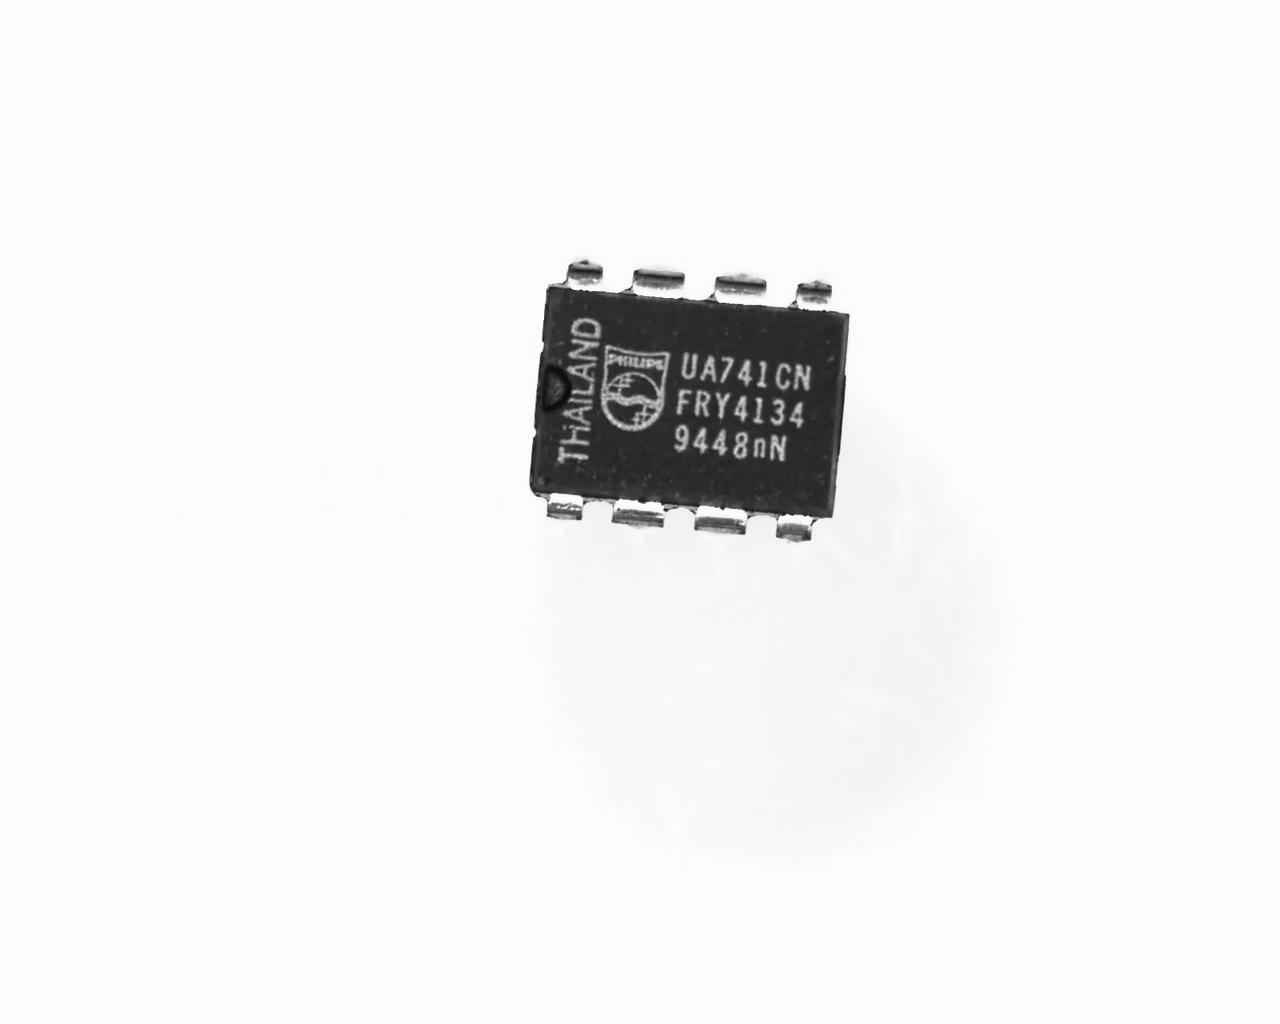Leg: (705, 265, 772, 311), (627, 259, 691, 305), (554, 253, 613, 296), (605, 497, 672, 533), (684, 503, 752, 537), (534, 489, 588, 525), (787, 274, 830, 311), (770, 513, 816, 546)
